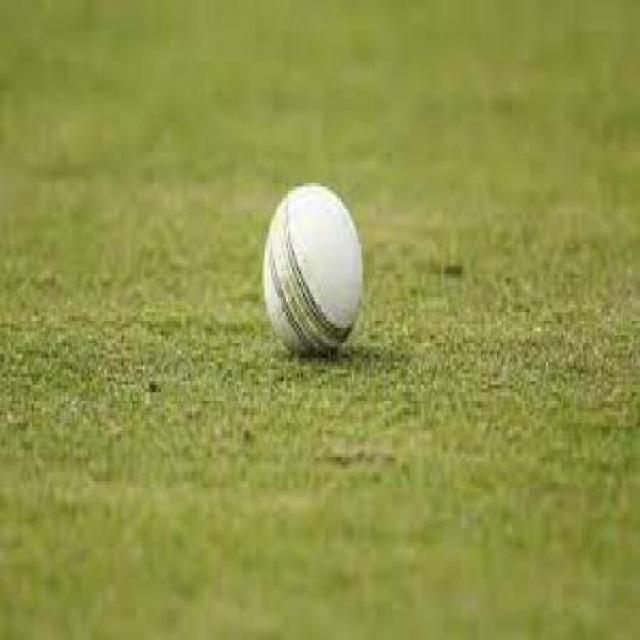ball: (231, 160, 440, 402)
